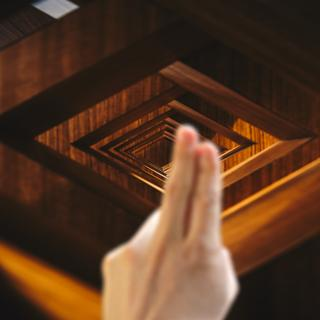DHAVE: (87, 117, 243, 320)
